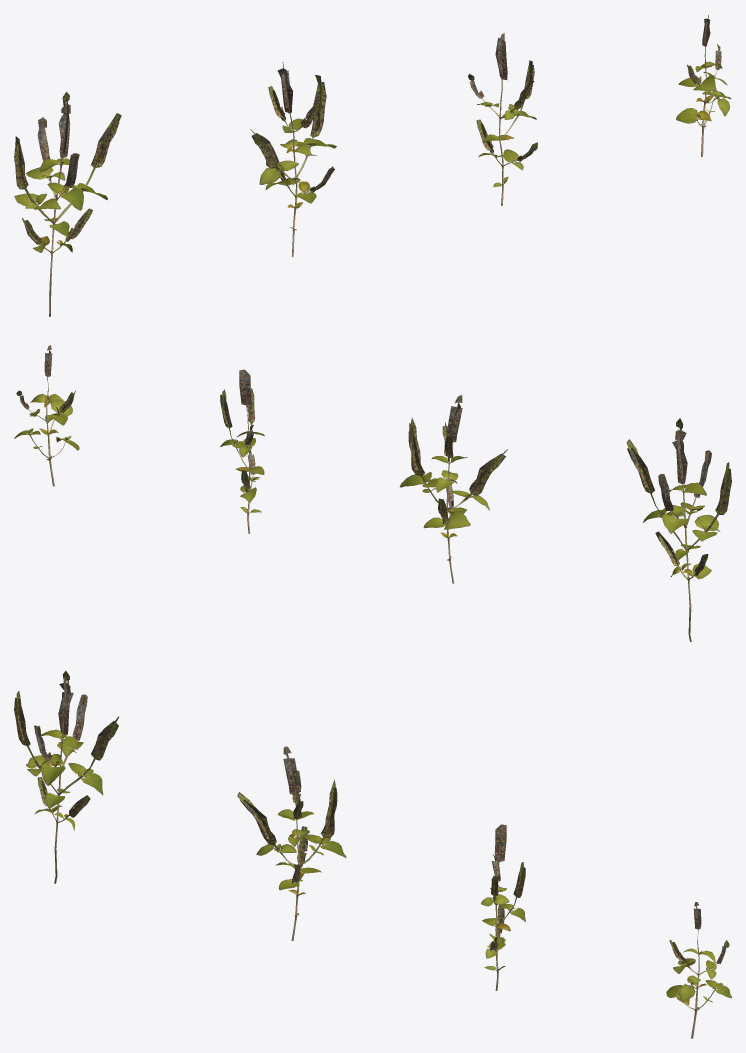
File: shrub_03.gltf
3 renders of one model, top to bottom at view 1: azimuth 30°, elevation 25°; view 2: azimuth 150°, elevation 25°; view 3: azimuth 330°, elevation 25°, orthographic. The views are drawn at different scales.
Visible parts, largest first — view 1: shrub_03_a, shrub_03_b, shrub_03_c, shrub_03_d; view 2: shrub_03_a, shrub_03_b, shrub_03_c, shrub_03_d; view 3: shrub_03_a, shrub_03_b, shrub_03_c, shrub_03_d.
Part boxes in pixels (x1,y1,x2,y2): shrub_03_a: (14,91,121,316); shrub_03_b: (250,62,336,256); shrub_03_c: (468,33,537,205); shrub_03_d: (676,15,731,156); shrub_03_a: (626,418,731,641); shrub_03_b: (400,395,507,583); shrub_03_c: (220,369,264,533); shrub_03_d: (14,345,79,486); shrub_03_a: (14,670,118,883); shrub_03_b: (237,746,346,940); shrub_03_c: (481,824,525,990); shrub_03_d: (666,902,731,1038).
Size of the model in its own units: 1.37 by 0.4028 by 0.1512.
1 material, 1 textured.
